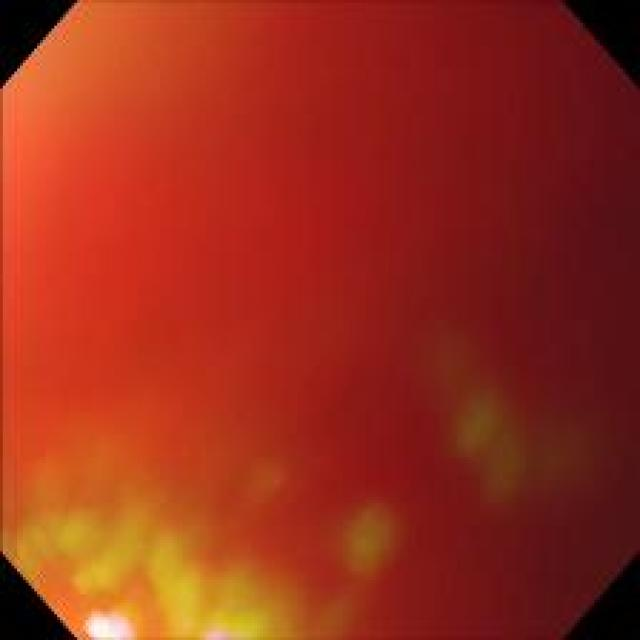color misalignment: (14, 11, 638, 624), (14, 435, 329, 632), (445, 375, 556, 502), (346, 482, 409, 579)
